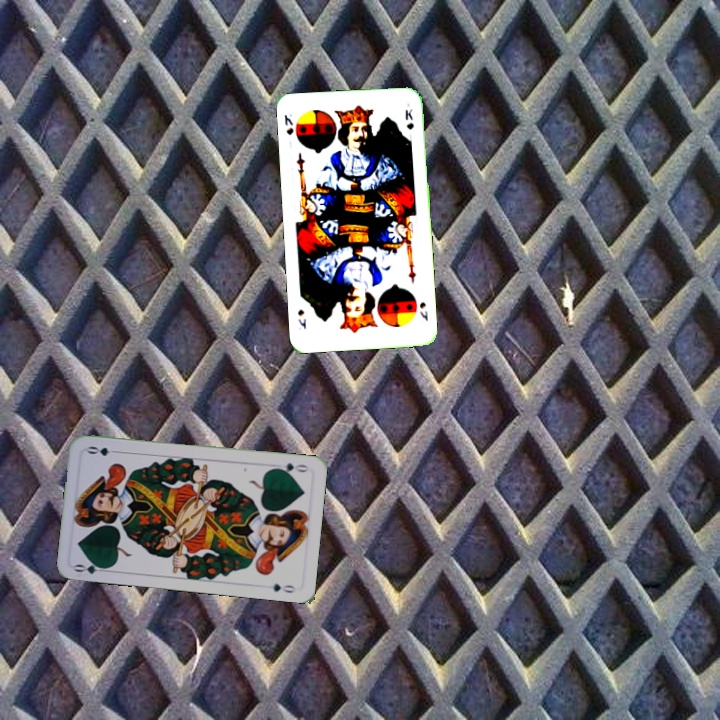GO: (71, 558, 112, 576), (270, 459, 310, 476)
SK: (280, 110, 296, 137), (415, 298, 430, 323)
